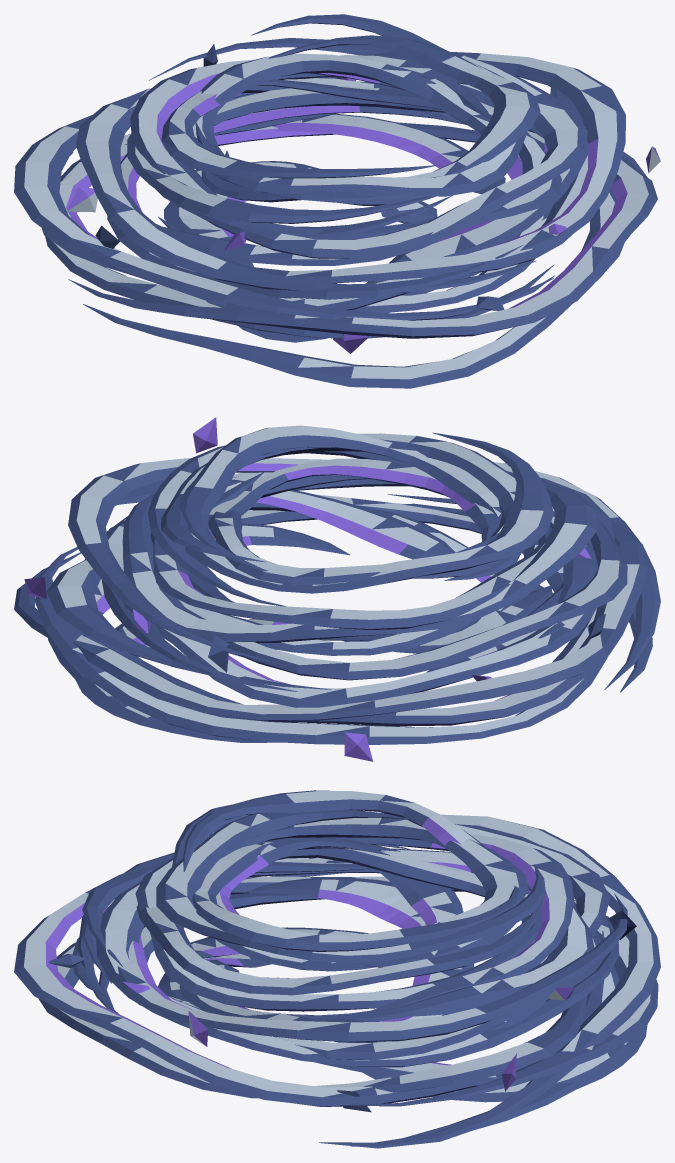
Rendered from Eye_Of_The_Storm.glb.
3 renders of one model, top to bottom at view 1: azimuth 30°, elevation 25°; view 2: azimuth 150°, elevation 25°; view 3: azimuth 270°, elevation 25°, orthographic.
Parts seen in each view (by area): view 1: EYE_IMPACT, Eyewall_04, Eyewall_10, Eyewall_05, Eyewall_09, Eyewall_14, Eyewall_02, Eyewall_18, Eyewall_12, Eyewall_20, Eyewall_13, Eyewall_17 (+9 smaller); view 2: EYE_IMPACT, Eyewall_05, Eyewall_15, Eyewall_03, Eyewall_18, Eyewall_09, Eyewall_07, Eyewall_19, Eyewall_13, Eyewall_10, Eyewall_02, Eyewall_20 (+9 smaller); view 3: EYE_IMPACT, Eyewall_04, Eyewall_05, Eyewall_20, Eyewall_10, Eyewall_08, Eyewall_02, Eyewall_14, Eyewall_18, Eyewall_13, Eyewall_19, Eyewall_12 (+9 smaller).
Part boxes in pixels (left/top/right/bottom): EYE_IMPACT: left=67, top=44, right=660, bottom=353; Eyewall_04: left=68, top=113, right=657, bottom=338; Eyewall_10: left=149, top=38, right=625, bottom=310; Eyewall_05: left=14, top=81, right=646, bottom=320; Eyewall_09: left=75, top=78, right=544, bottom=293; Eyewall_14: left=156, top=51, right=587, bottom=265; Eyewall_02: left=83, top=82, right=624, bottom=388; Eyewall_18: left=201, top=35, right=540, bottom=202; Eyewall_12: left=155, top=79, right=561, bottom=258; Eyewall_20: left=195, top=14, right=527, bottom=196; Eyewall_13: left=130, top=59, right=494, bottom=239; Eyewall_17: left=192, top=53, right=479, bottom=202; EYE_IMPACT: left=24, top=417, right=605, bottom=761; Eyewall_05: left=14, top=494, right=648, bottom=720; Eyewall_15: left=122, top=471, right=596, bottom=643; Eyewall_03: left=35, top=547, right=608, bottom=744; Eyewall_18: left=179, top=425, right=522, bottom=580; Eyewall_09: left=123, top=518, right=627, bottom=680; Eyewall_07: left=155, top=478, right=615, bottom=707; Eyewall_19: left=185, top=432, right=553, bottom=593; Eyewall_13: left=150, top=527, right=551, bottom=629; Eyewall_10: left=68, top=458, right=564, bottom=665; Eyewall_02: left=47, top=502, right=652, bottom=692; Eyewall_20: left=161, top=433, right=516, bottom=562; EYE_IMPACT: left=48, top=870, right=647, bottom=1112; Eyewall_04: left=14, top=890, right=606, bottom=1106; Eyewall_05: left=78, top=814, right=660, bottom=1148; Eyewall_20: left=156, top=809, right=545, bottom=963; Eyewall_10: left=114, top=860, right=627, bottom=1042; Eyewall_08: left=96, top=862, right=619, bottom=1067; Eyewall_02: left=38, top=873, right=587, bottom=1098; Eyewall_14: left=136, top=841, right=542, bottom=995; Eyewall_18: left=192, top=837, right=518, bottom=951; Eyewall_13: left=331, top=834, right=574, bottom=1013; Eyewall_19: left=183, top=790, right=524, bottom=967; Eyewall_12: left=135, top=859, right=542, bottom=1011.
Bounding box in the file's own units: 11.03 × 2.94 × 10.92.
